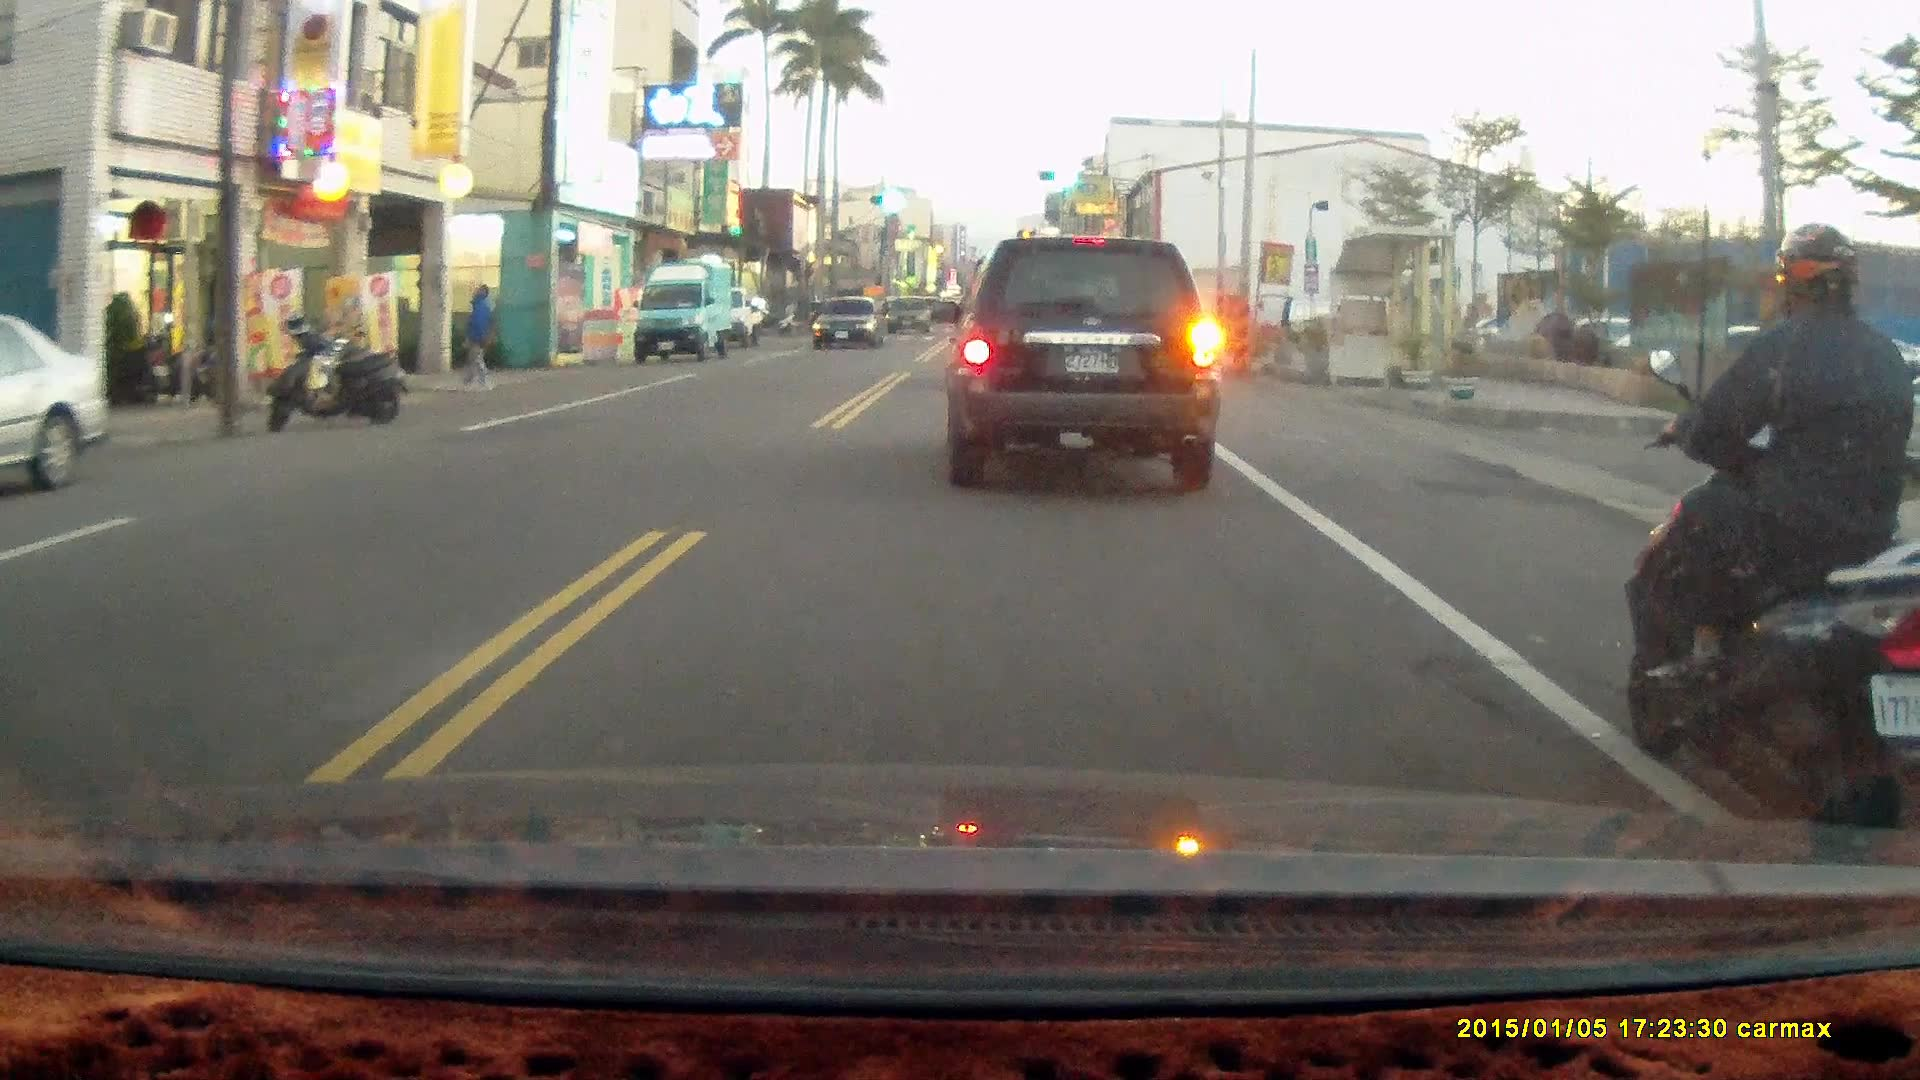pedestrian: (461, 278, 496, 388)
rider: (1621, 221, 1920, 852)
vehicle: (941, 234, 1222, 498), (1, 309, 116, 496), (633, 261, 738, 366), (811, 296, 891, 350), (886, 296, 932, 336)
